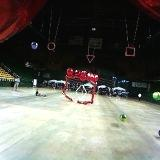Green_Balloon: (152, 92, 160, 101), (120, 114, 128, 121)
Orange_Circle_GShape: (47, 41, 55, 51)
Orange_Square_GShape: (125, 46, 136, 57)
Orange_Triangle_Gshape: (86, 54, 96, 64)
Purple_Balloon: (30, 41, 39, 50)
